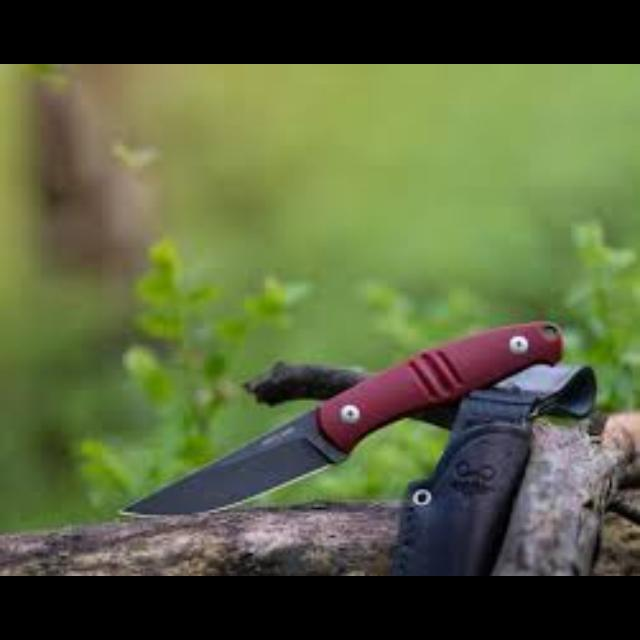knife: (117, 319, 563, 517)
